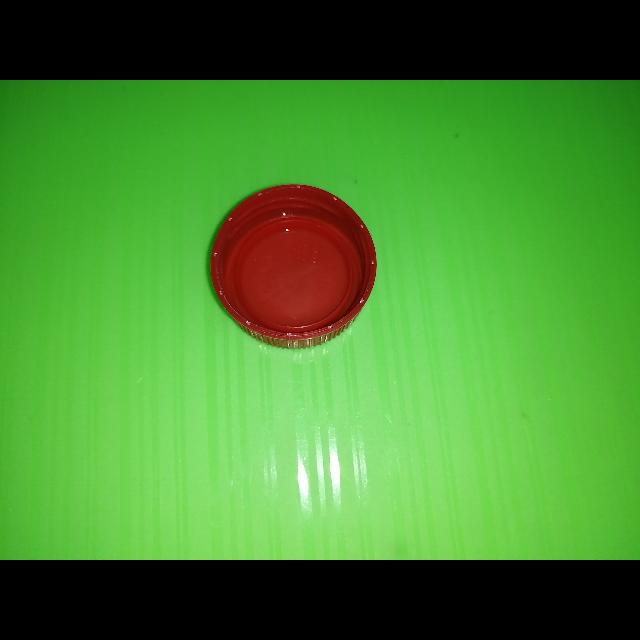plastic_bottle_cap: (210, 184, 378, 350)
